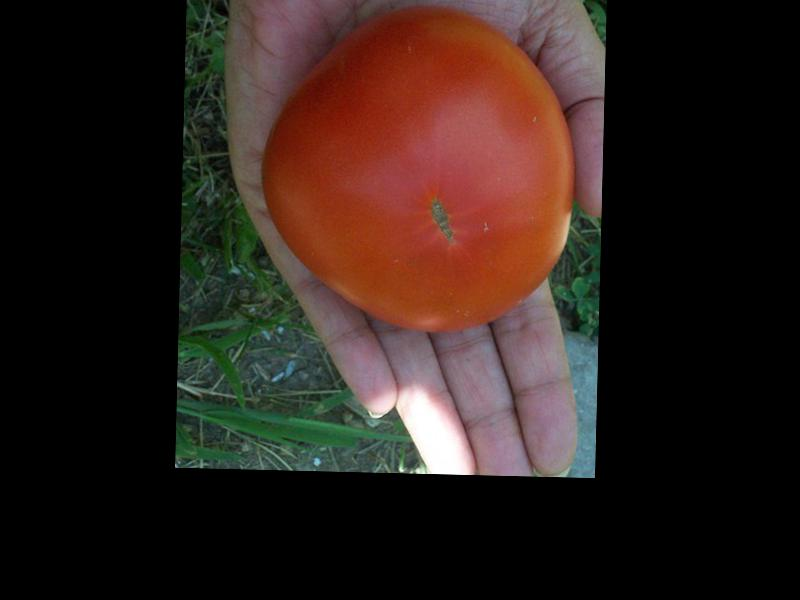Tomato: (257, 6, 578, 334)
